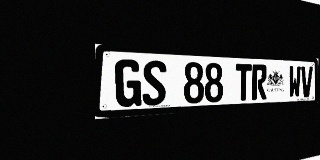8: (184, 62, 204, 104), (204, 62, 223, 103)
G: (115, 59, 141, 107)
R: (252, 64, 267, 100)
S: (142, 60, 166, 106)
T: (235, 64, 252, 101)
V: (301, 66, 313, 97)
W: (288, 66, 301, 98)
